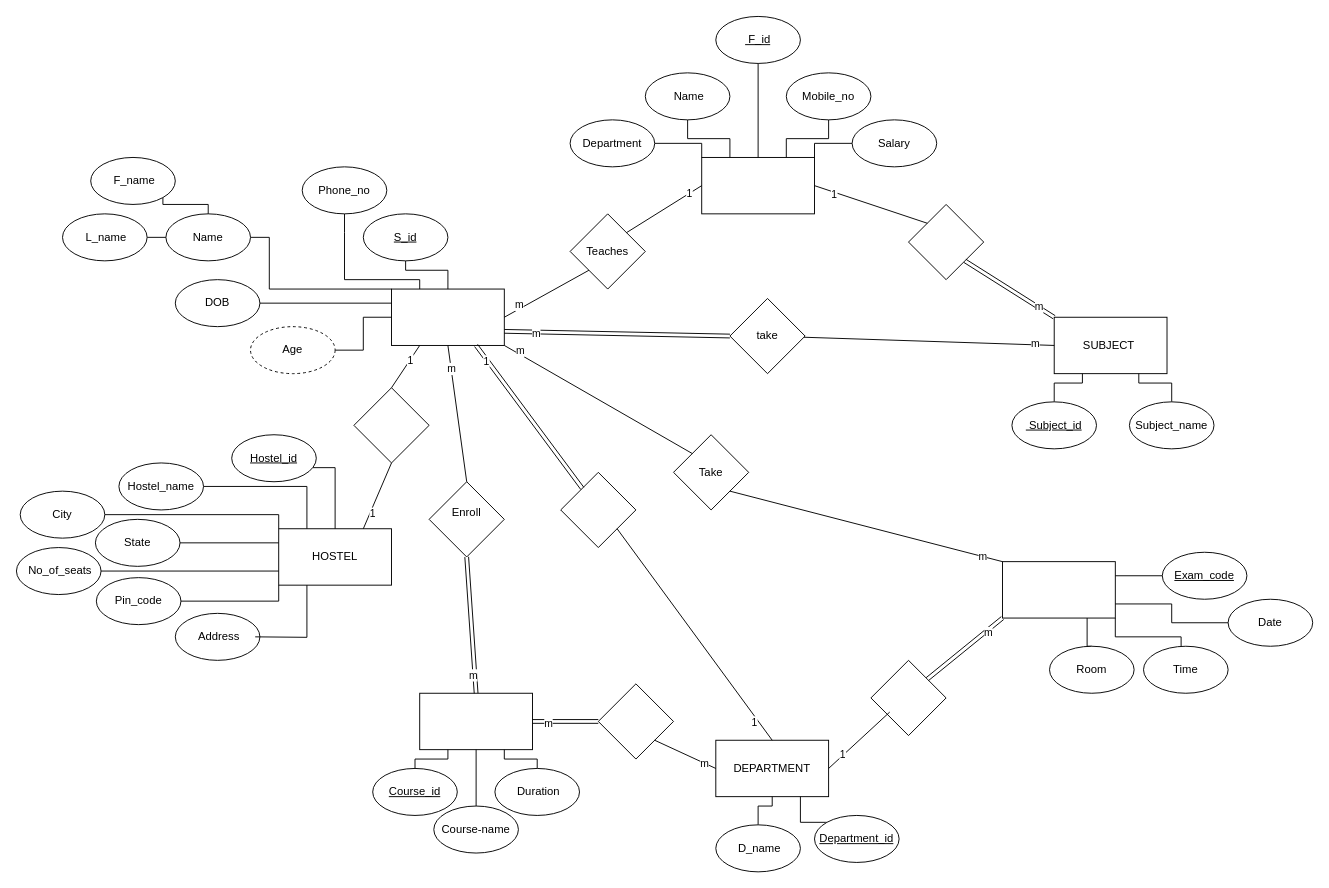
Some shapes in this 1329 by 888 pixel diagram are drawn without their labels. The box of each missing label's shape, as (x1, y1, x2, y2) in pixels:
Belong to: (560, 471, 636, 548)
Conducted: (870, 659, 946, 736)
COURSE: (419, 692, 533, 750)
EXAMS: (1002, 561, 1115, 618)
FACULTY: (701, 157, 815, 214)
handled: (597, 683, 674, 759)
handles: (908, 204, 984, 280)
Live: (353, 387, 429, 463)
STUDENT: (391, 288, 504, 345)
